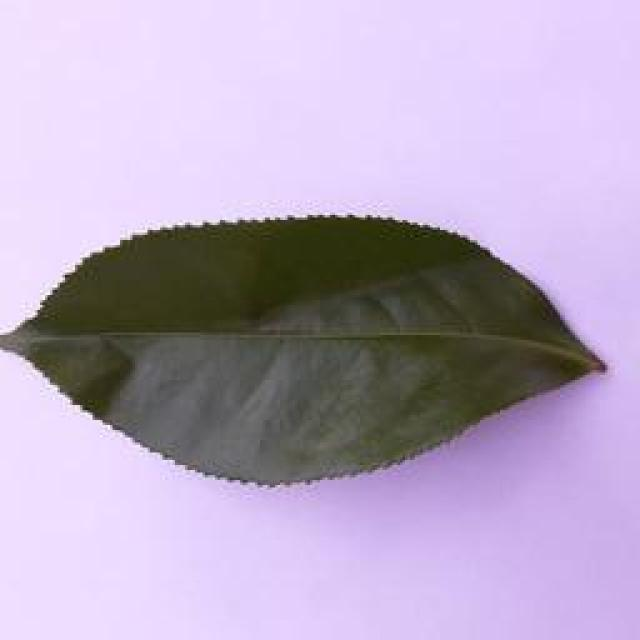Healthy: (14, 201, 609, 492)
